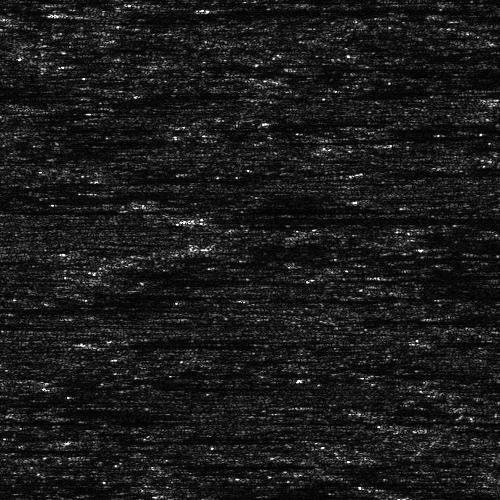object: (173, 201, 204, 232), (456, 92, 500, 101), (130, 462, 203, 467), (0, 201, 9, 216), (211, 246, 252, 249)
shadow: (188, 201, 500, 232), (0, 201, 69, 216), (166, 462, 317, 467), (232, 246, 388, 249), (368, 171, 500, 172)
